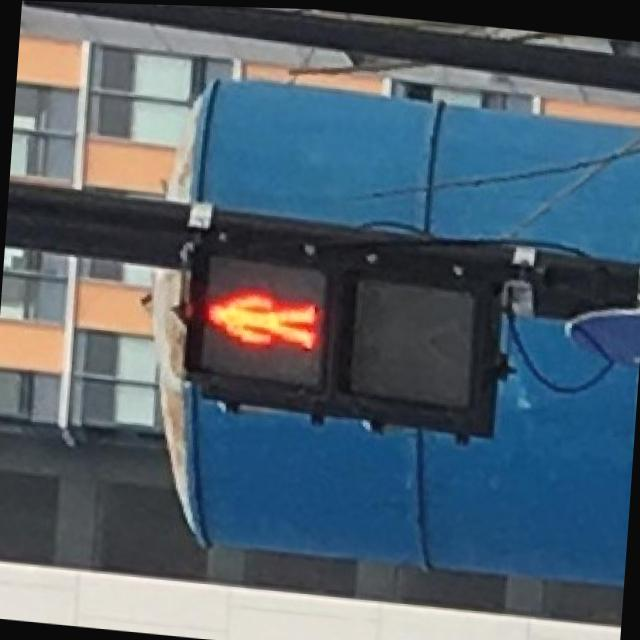red_light: (192, 253, 324, 381)
